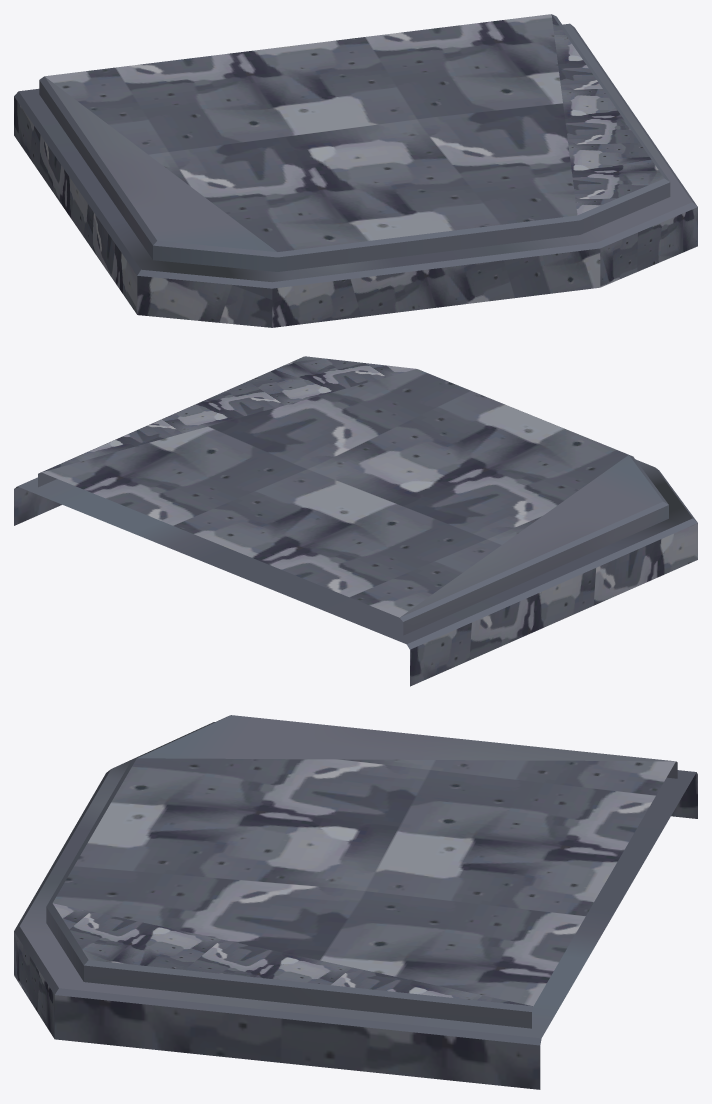
The model's file is DisneyStoreStoneFloor.fbx.
3 renders of one model, top to bottom at view 1: azimuth 30°, elevation 25°; view 2: azimuth 150°, elevation 25°; view 3: azimuth 270°, elevation 25°, orthographic. The views are drawn at different scales.
Visible parts, largest first — view 1: DisneyStoreStoneFloor; view 2: DisneyStoreStoneFloor; view 3: DisneyStoreStoneFloor.
Part boxes in pixels (x1,y1,x2,y2): DisneyStoreStoneFloor: (14,14,697,327); DisneyStoreStoneFloor: (14,356,697,686); DisneyStoreStoneFloor: (14,715,697,1089).
Bounding box in the file's own units: 417 × 41.83 × 375.
